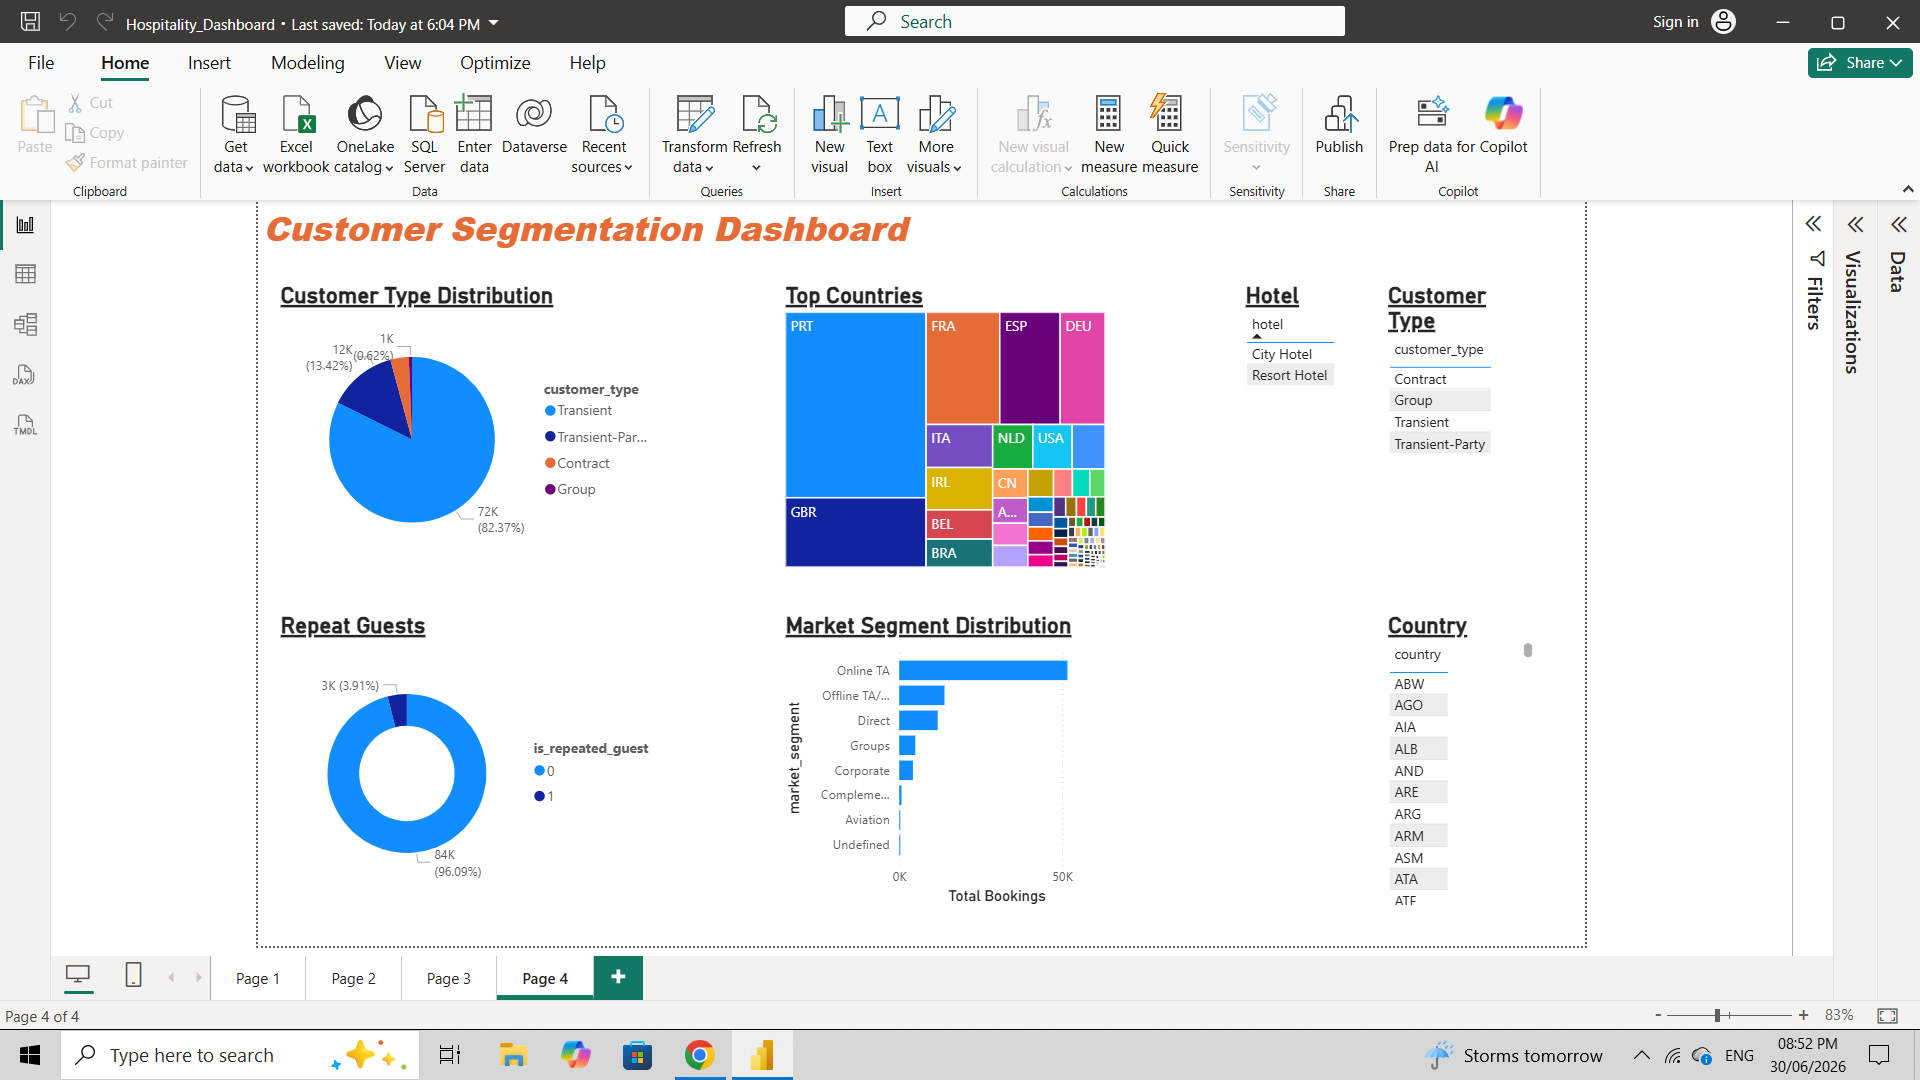

The dashboard page shown, as its layout file describes it:
{"tool":"powerbi","page":{"name":"Page 4","canvas":[1280,720],"ordinal":3},"visuals":[{"type":"pieChart","title":"Customer Type Distribution","fields":{"Category":["cleaned_hotel_booking_dataset.customer_type"],"Y":["cleaned_hotel_booking_dataset.Total Bookings"]},"box":[89.3,79.6,374,279.9],"z":0},{"type":"donutChart","title":"Repeat Guests","fields":{"Category":["cleaned_hotel_booking_dataset.is_repeated_guest"],"Y":["cleaned_hotel_booking_dataset.Total Bookings"]},"box":[89.3,398.1,374,287.1],"z":1},{"type":"treemap","title":"Top Countries","fields":{"Group":["cleaned_hotel_booking_dataset.country"],"Values":["cleaned_hotel_booking_dataset.Total Bookings"]},"box":[663.5,79.6,318.5,279.9],"z":2},{"type":"barChart","title":"Market Segment Distribution","fields":{"Category":["cleaned_hotel_booking_dataset.market_segment"],"Y":["cleaned_hotel_booking_dataset.Total Bookings"]},"box":[663.5,398.1,318.5,287.1],"z":3},{"type":"textbox","box":[0,0,807.1,55.5],"z":4}]}

Visuals, with their boxes on the page's 1280x720 design canvas (x1, y1, x2, y2). These are canvas units, not pixel positions in the 1920x1080 screenshot, which may show the page scaled, cropped or inside an application window:
"Customer Type Distribution" pieChart: [x1=89, y1=80, x2=463, y2=360]
"Repeat Guests" donutChart: [x1=89, y1=398, x2=463, y2=685]
"Top Countries" treemap: [x1=664, y1=80, x2=982, y2=360]
"Market Segment Distribution" barChart: [x1=664, y1=398, x2=982, y2=685]
textbox: [x1=0, y1=0, x2=807, y2=56]
